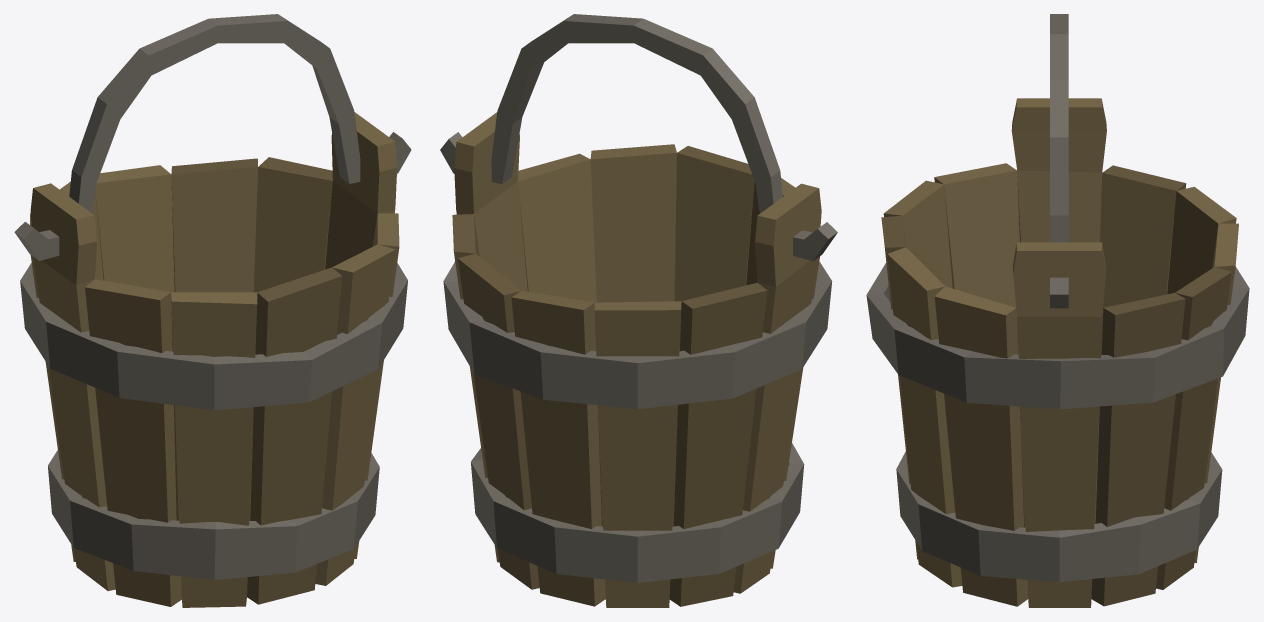
Rendered from Bucket.fbx.
The picture shows the model from 3 angles, left to right: view 1: azimuth 30°, elevation 25°; view 2: azimuth 150°, elevation 25°; view 3: azimuth 270°, elevation 25°; orthographic projection. The views are drawn at different scales.
Visible parts, largest first — view 1: Bucket; view 2: Bucket; view 3: Bucket.
Boxes of the visible parts, <box> form: Bucket: <box>14,14,411,607</box>; Bucket: <box>440,14,837,607</box>; Bucket: <box>866,14,1249,607</box>.
Bounding box in the file's own units: 41.39 × 54.18 × 36.15.
